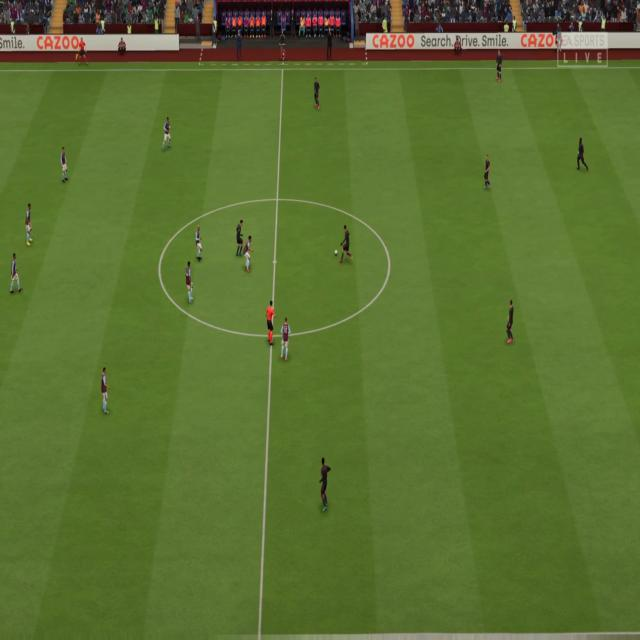Ball: (334, 250, 338, 256)
Referee: (265, 300, 277, 347)
Team-A: (318, 457, 332, 512), (339, 224, 353, 265), (576, 137, 589, 172), (505, 299, 515, 344), (483, 154, 492, 190), (235, 219, 243, 257), (313, 76, 321, 110), (495, 50, 503, 83)
Team-H: (9, 252, 23, 294), (100, 366, 110, 416), (280, 318, 290, 362), (243, 236, 254, 273), (185, 260, 194, 304), (25, 202, 33, 247), (162, 117, 172, 152), (60, 146, 69, 184), (195, 224, 202, 262)
